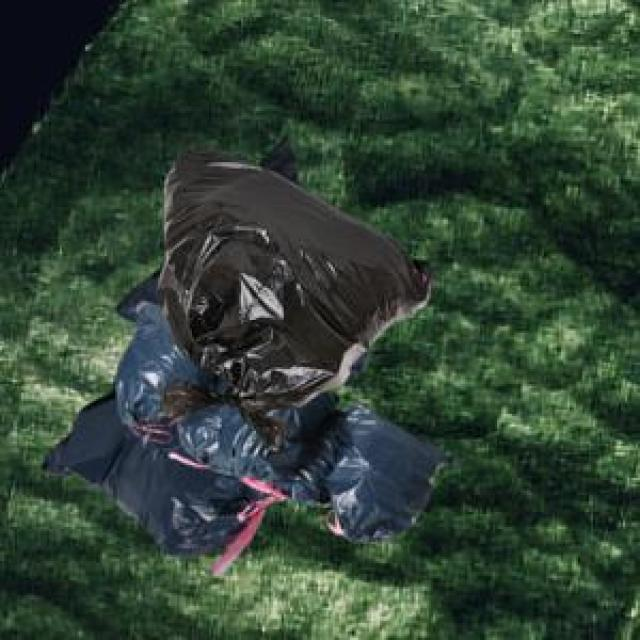Trashbag: (156, 144, 437, 437), (327, 400, 447, 545)
